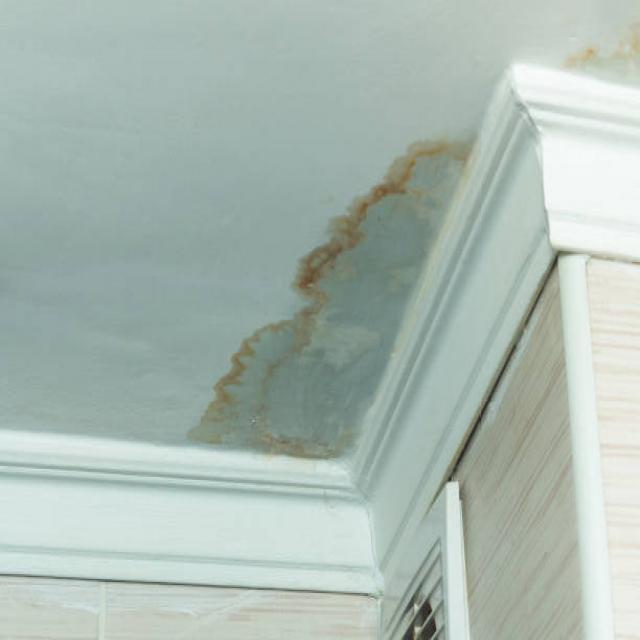leak: (208, 145, 466, 460), (571, 30, 640, 89)
